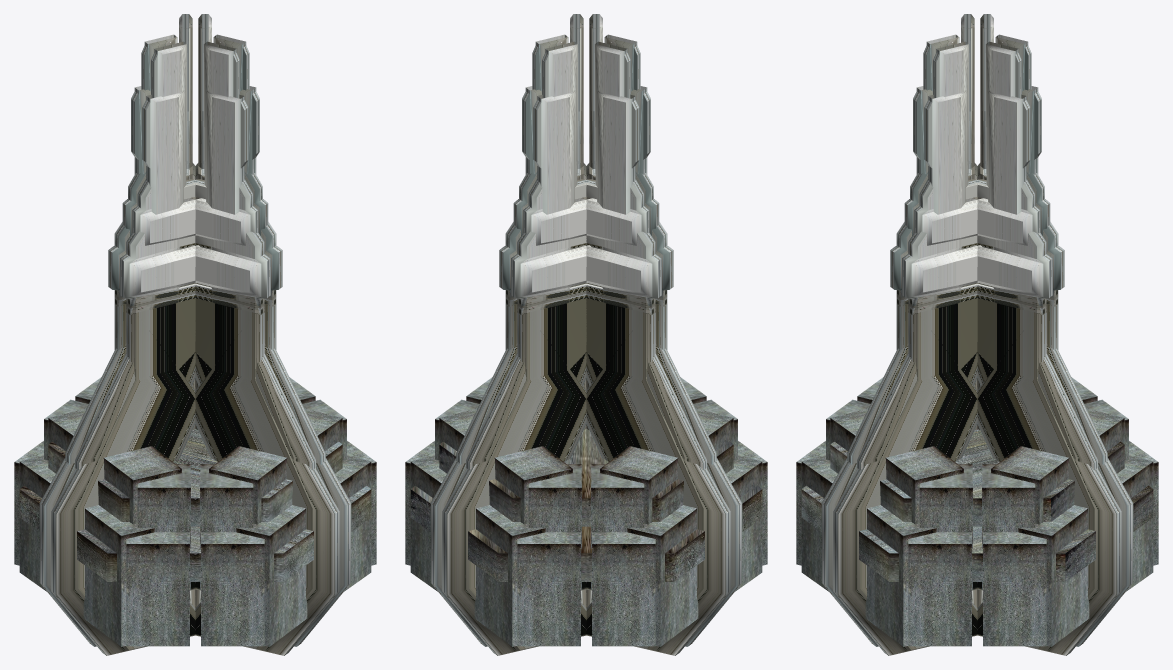
The model's file is hub_donelv2.fbx.
3 views of the same model, side by side, from view 1: azimuth 30°, elevation 25°; view 2: azimuth 150°, elevation 25°; view 3: azimuth 270°, elevation 25° (orthographic).
Parts seen in each view (by area): view 1: hubLvl2; view 2: hubLvl2; view 3: hubLvl2.
Boxes of the visible parts, bbox=[...] form: hubLvl2: bbox=[14, 14, 376, 655]; hubLvl2: bbox=[405, 14, 767, 655]; hubLvl2: bbox=[796, 14, 1158, 655].
Bounding box in the file's own units: 89.93 × 173 × 95.9.
3 materials, 3 textured.
